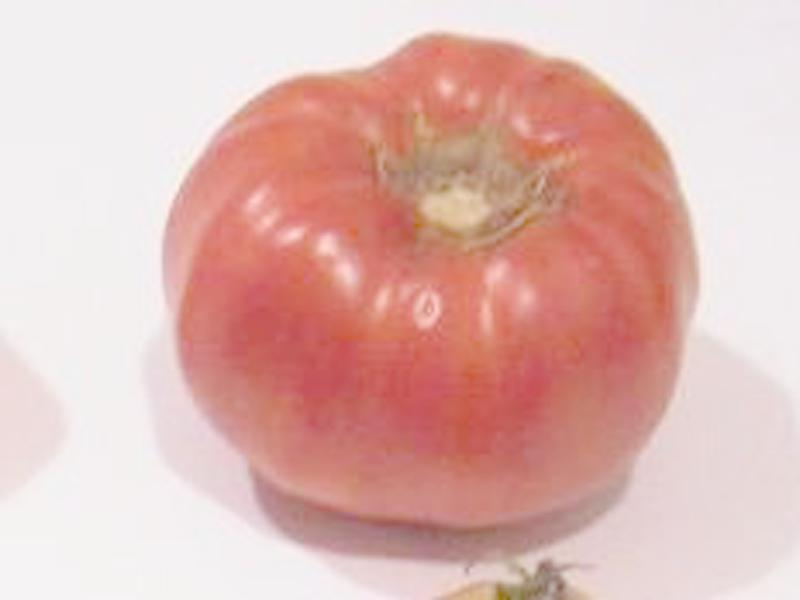Tomato: (168, 36, 696, 518)
